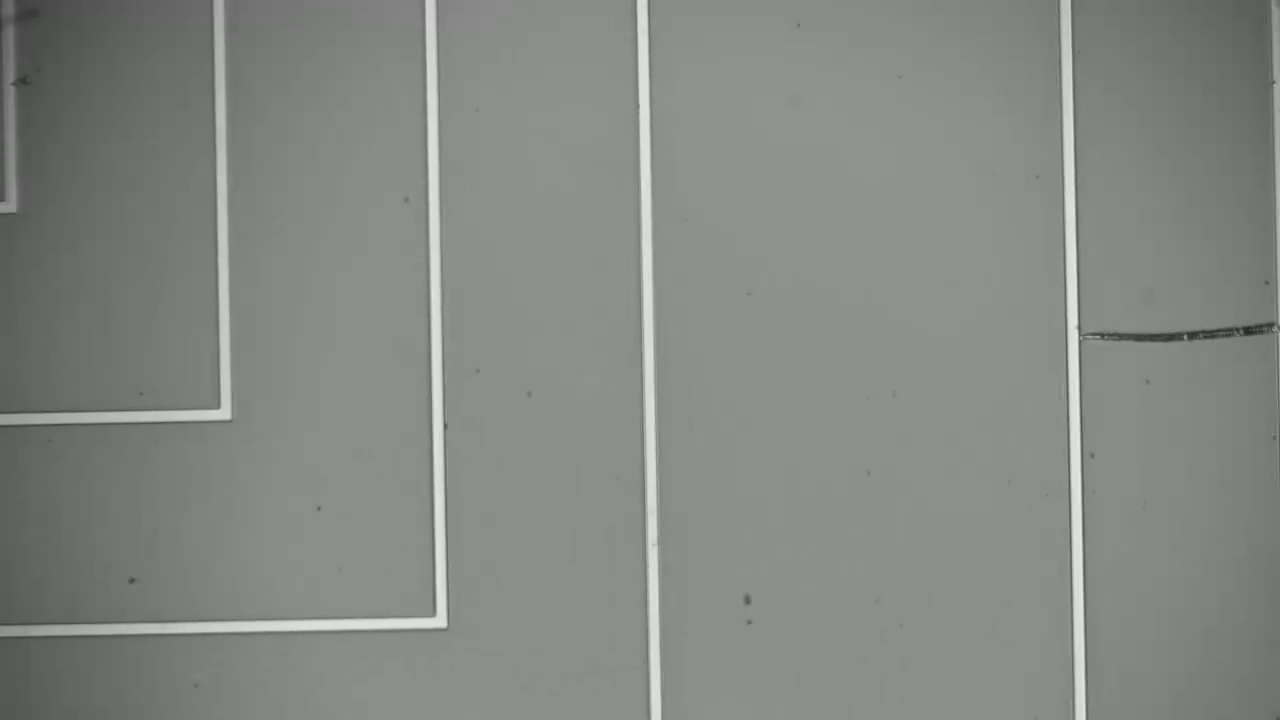scratch: (1077, 315, 1279, 368)
